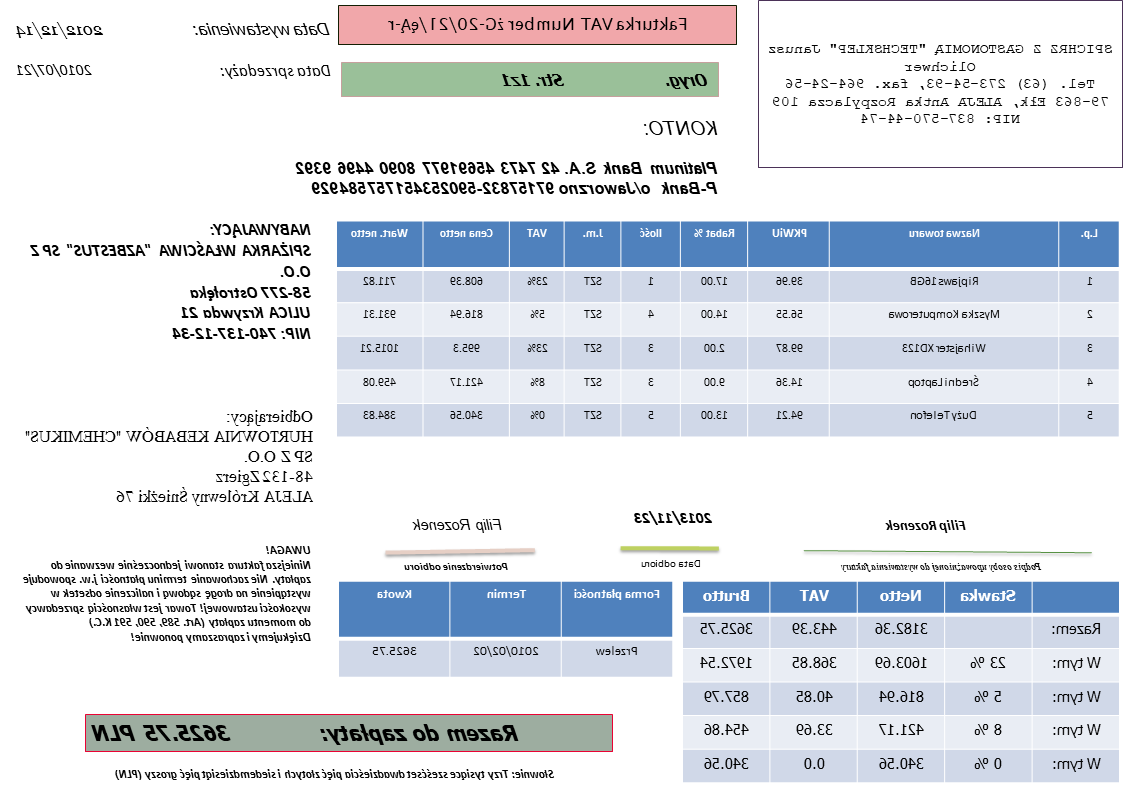Table: (335, 219, 1121, 438), (682, 580, 1122, 783), (336, 578, 674, 680)
TextBox: (25, 220, 314, 344), (768, 39, 1114, 129), (21, 542, 313, 645), (24, 408, 316, 506), (290, 157, 720, 201), (91, 718, 522, 747), (112, 766, 558, 784), (384, 12, 691, 37), (499, 69, 710, 92), (838, 559, 1044, 574), (189, 19, 334, 39), (218, 62, 335, 82), (409, 514, 506, 535), (14, 20, 105, 41), (14, 59, 96, 80), (885, 515, 968, 535), (633, 508, 716, 528), (642, 118, 720, 139), (401, 560, 511, 574), (640, 555, 706, 572)
